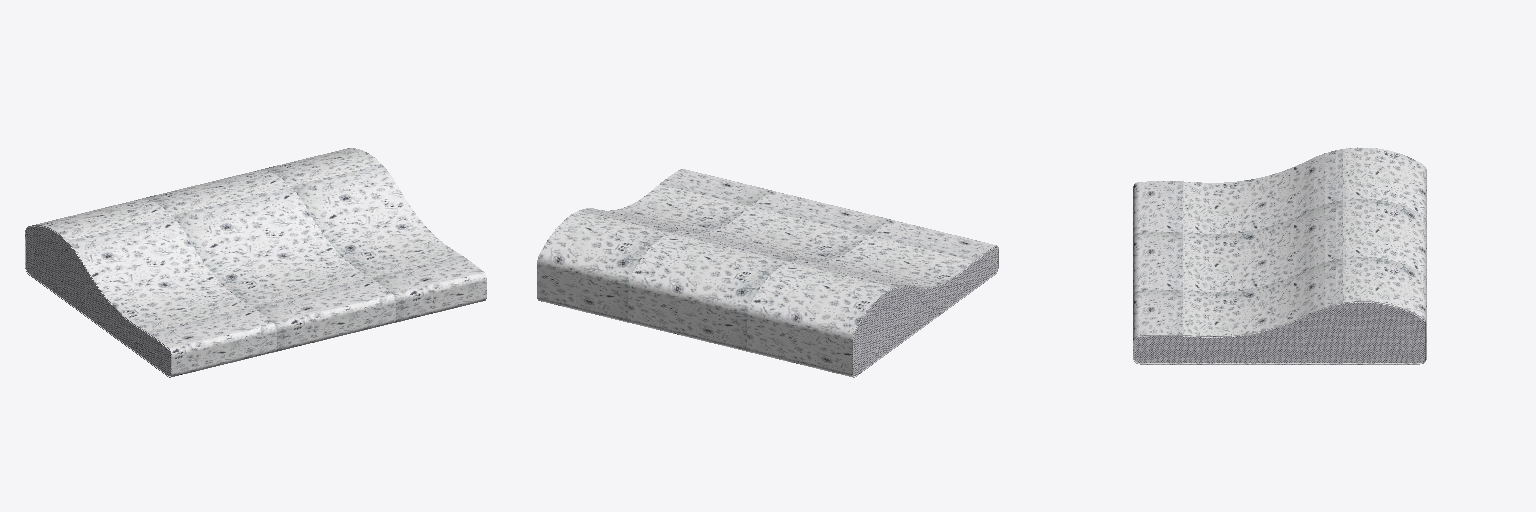
3 renders of one model, left to right at view 1: azimuth 30°, elevation 25°; view 2: azimuth 150°, elevation 25°; view 3: azimuth 270°, elevation 25°, orthographic.
Visible parts, largest first — view 1: pillow1; view 2: pillow1; view 3: pillow1.
Part boxes in pixels (x1,y1,x2,y2): pillow1: (25,148,486,377); pillow1: (537,169,998,377); pillow1: (1133,147,1426,364).
Size of the model in its own units: 5.7 by 1.09 by 4.6.
Materials: 2 (2 with a texture image).